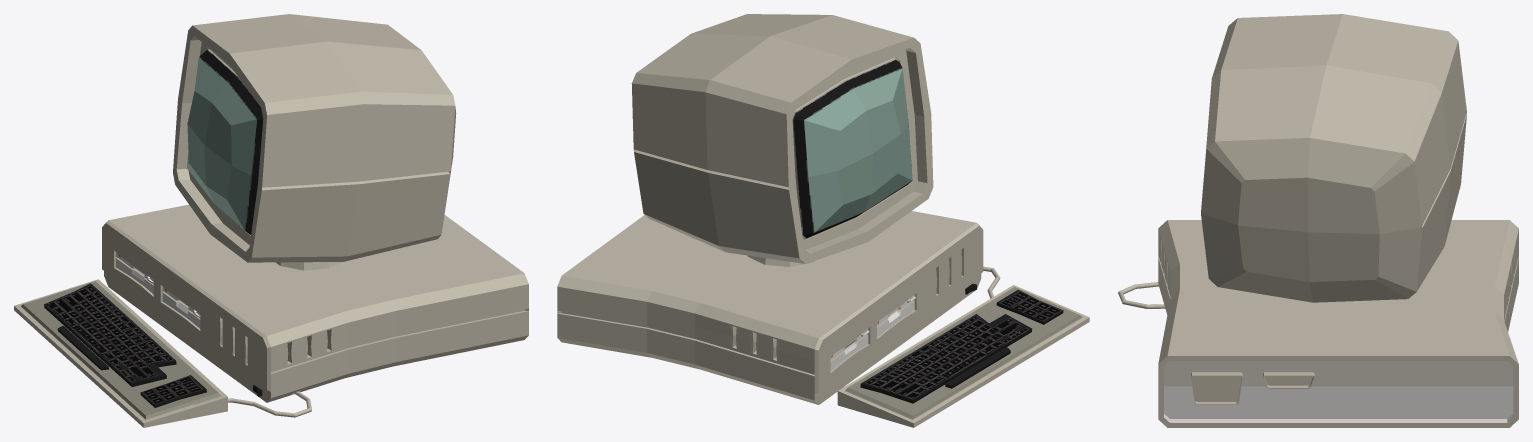
3 views of the same model, side by side, from view 1: azimuth 30°, elevation 25°; view 2: azimuth 150°, elevation 25°; view 3: azimuth 270°, elevation 25° (orthographic). The views are drawn at different scales.
Visible parts, largest first — view 1: Object_2; view 2: Object_2; view 3: Object_2.
Part boxes in pixels (box(x1,y1,x2,y2)): Object_2: box(14, 14, 528, 427); Object_2: box(557, 14, 1089, 427); Object_2: box(1118, 14, 1518, 427).
Size of the model in its own units: 1.8 by 1.28 by 1.54.
Materials: 1 (1 with a texture image).
